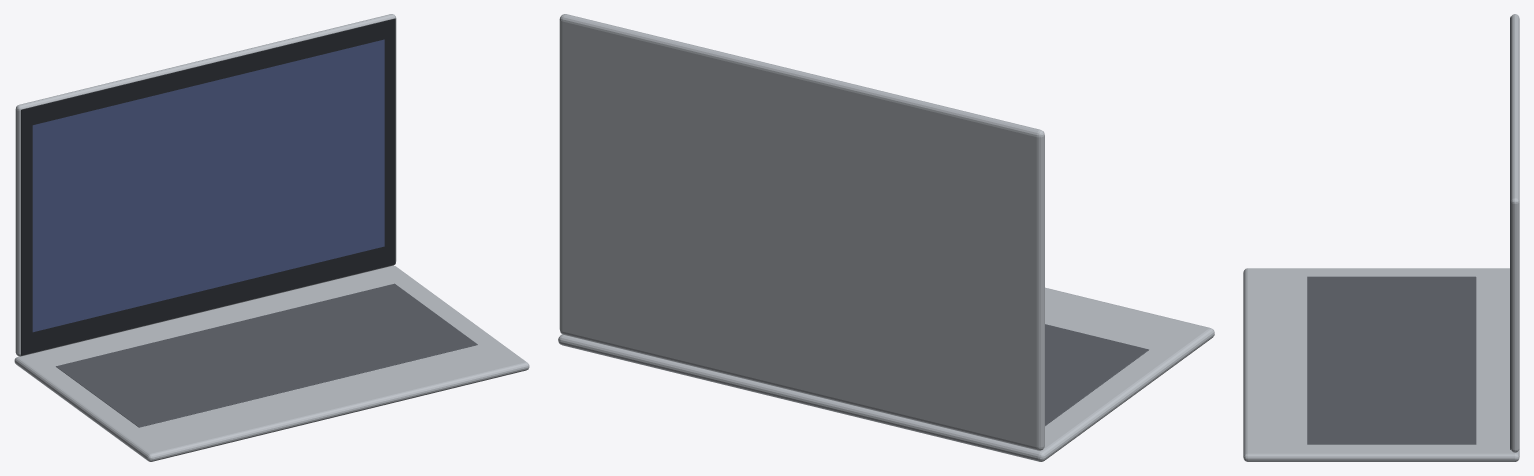
Rendered from laptop-dev.glb.
3 views of the same model, side by side, from view 1: azimuth 30°, elevation 25°; view 2: azimuth 150°, elevation 25°; view 3: azimuth 270°, elevation 25° (orthographic). The views are drawn at different scales.
Parts seen in each view (by area): view 1: Screen, KeyboardDeck, KeyboardBase, DisplayBezel, DisplayShell; view 2: DisplayShell, KeyboardBase, KeyboardDeck; view 3: KeyboardDeck, KeyboardBase, DisplayShell, DisplayBezel.
Part boxes in pixels (left/top/right/bottom): Screen: left=32, top=39, right=384, bottom=332; KeyboardDeck: left=56, top=283, right=477, bottom=427; KeyboardBase: left=14, top=265, right=529, bottom=461; DisplayBezel: left=21, top=18, right=395, bottom=355; DisplayShell: left=15, top=14, right=396, bottom=356; DisplayShell: left=559, top=14, right=1044, bottom=450; KeyboardBase: left=558, top=287, right=1214, bottom=461; KeyboardDeck: left=1045, top=324, right=1148, bottom=425; KeyboardDeck: left=1307, top=276, right=1476, bottom=444; KeyboardBase: left=1243, top=268, right=1519, bottom=461; DisplayShell: left=1510, top=14, right=1519, bottom=452; DisplayBezel: left=1510, top=16, right=1510, bottom=449.
Size of the model in its own units: 0.304 by 0.1975 by 0.188.
